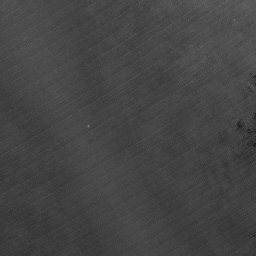Target: (85, 123, 92, 129)
